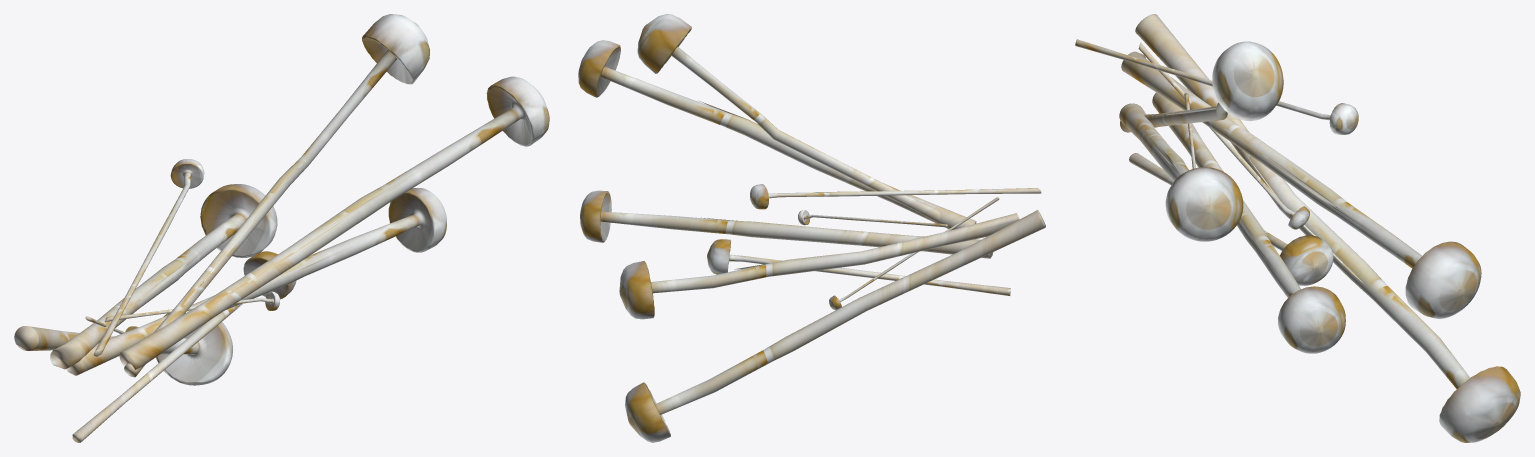
File: EnokiTest.fbx
3 renders of one model, left to right at view 1: azimuth 30°, elevation 25°; view 2: azimuth 150°, elevation 25°; view 3: azimuth 270°, elevation 25°, orthographic. The views are drawn at different scales.
Parts seen in each view (by area): view 1: Poly.009; view 2: Poly.009; view 3: Poly.009.
Boxes of the visible parts, x1,y1,x2,y2 form: Poly.009: (14,14,549,442); Poly.009: (578,14,1045,442); Poly.009: (1075,14,1520,442).
Bounding box in the file's own units: 651 × 479 × 437.
